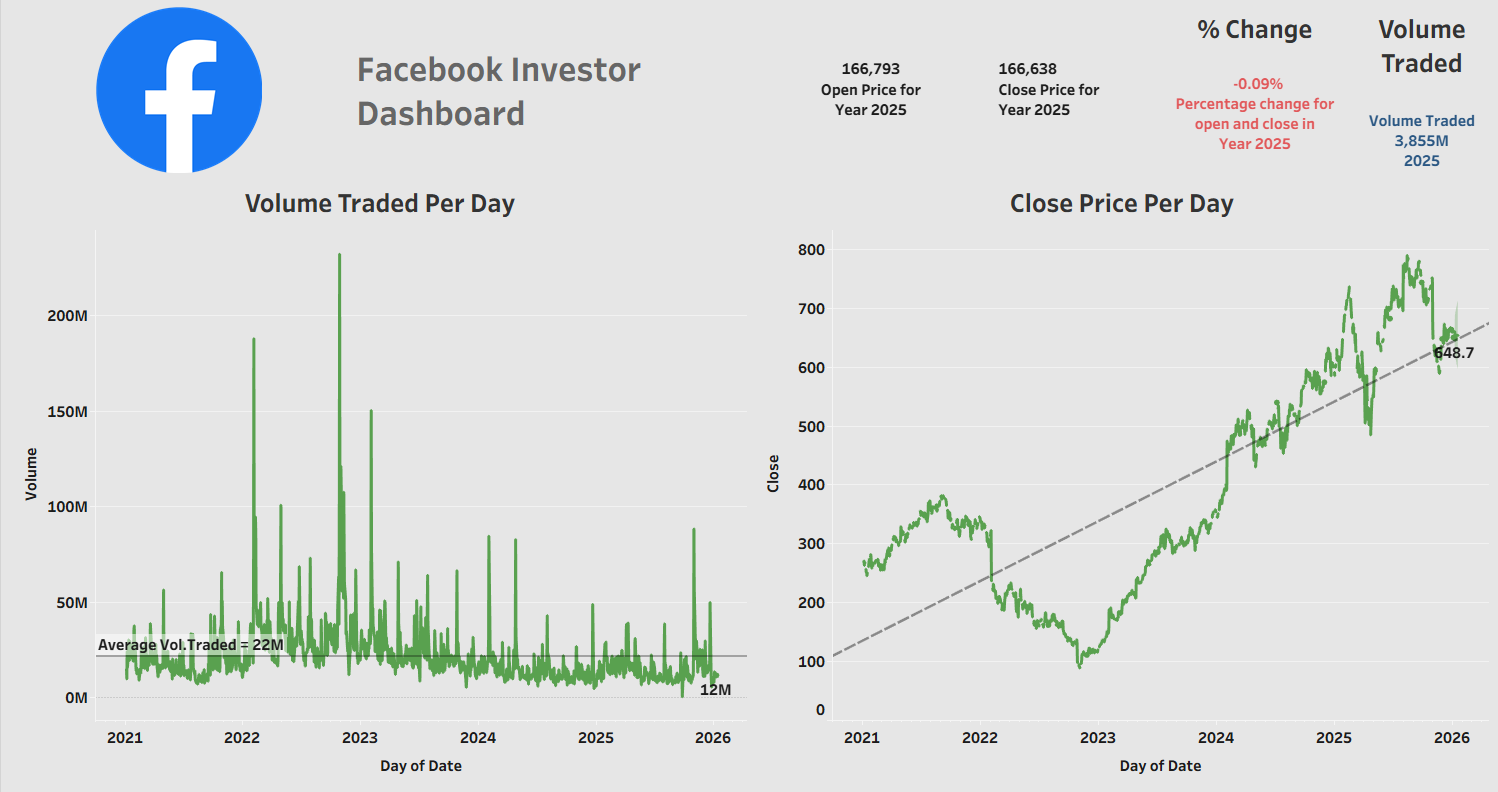

The dashboard page shown, as its layout file describes it:
{"tool":"tableau","page":{"name":"Facebook Stock","canvas":[1500,800],"ordinal":0},"visuals":[{"type":"image","param":"C:/Users/SANGEETHA RAVI/Downloads/FacebookLogo.png","box":[8,8,340,174]},{"type":"text","box":[348,8,402,174]},{"type":"worksheet","title":"Open Price","mark":"Automatic","box":[750,8,239,174]},{"type":"worksheet","title":"Close Price","mark":"Automatic","box":[989,8,169,174]},{"type":"worksheet","title":"% Change","mark":"Automatic","box":[1158,8,192,174]},{"type":"worksheet","title":"Volume traded","mark":"Automatic","box":[1350,8,142,174]},{"type":"worksheet","title":"Volume Traded Per Day","mark":"Automatic","rows":["Volume"],"cols":["Date"],"box":[8,182,742,610]},{"type":"worksheet","title":"Close Price Per Day","mark":"Automatic","rows":["Close"],"cols":["Date"],"box":[750,182,742,610]}]}

Visuals, with their boxes in screenshot pixels (x1, y1, x2, y2), scaled from the page's 1500x800 canvas onto the 1498x792 screenshot:
image: 8, 8, 348, 180
text: 348, 8, 749, 180
"Open Price" worksheet: 749, 8, 988, 180
"Close Price" worksheet: 988, 8, 1156, 180
"% Change" worksheet: 1156, 8, 1348, 180
"Volume traded" worksheet: 1348, 8, 1490, 180
"Volume Traded Per Day" worksheet: 8, 180, 749, 784
"Close Price Per Day" worksheet: 749, 180, 1490, 784
